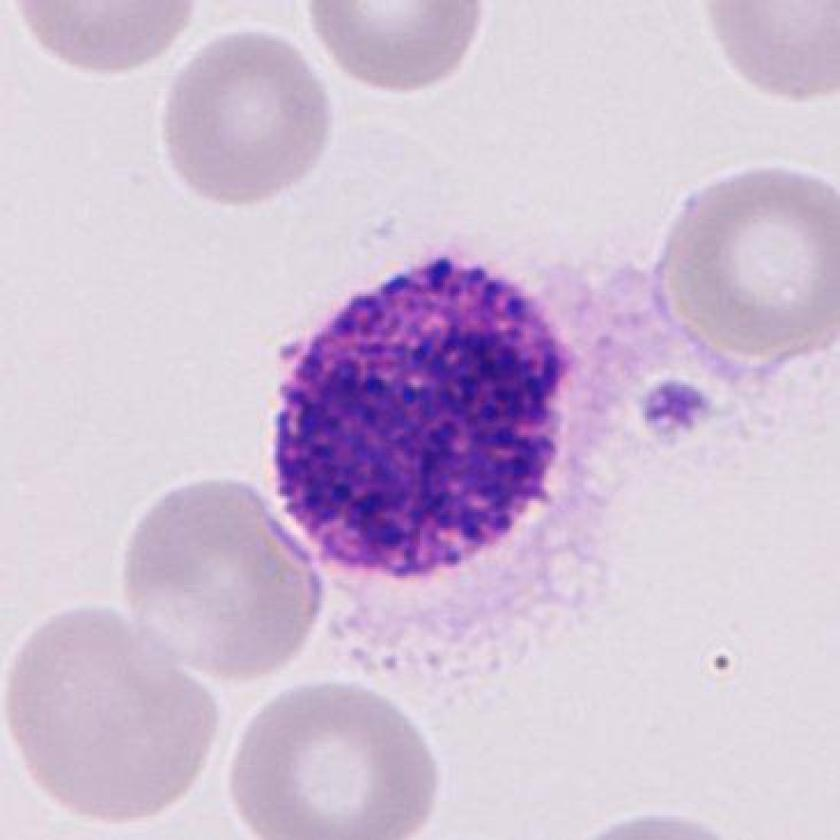basophil: (265, 238, 600, 588)
